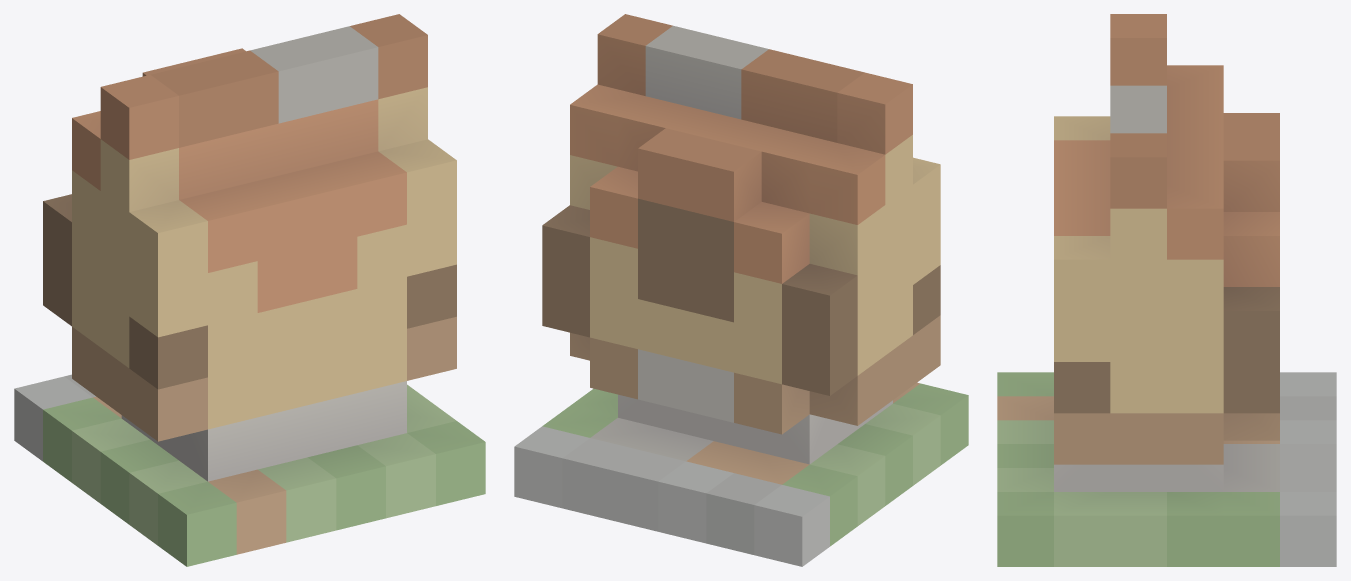
The model's file is house_merchants.v0.lite.glb.
3 renders of one model, left to right at view 1: azimuth 30°, elevation 25°; view 2: azimuth 150°, elevation 25°; view 3: azimuth 270°, elevation 25°, orthographic. The views are drawn at different scales.
Visible parts, largest first — view 1: house_merchants; view 2: house_merchants; view 3: house_merchants.
Boxes of the visible parts, <box> form: house_merchants: <box>14,14,485,566</box>; house_merchants: <box>514,14,968,566</box>; house_merchants: <box>997,14,1336,566</box>.
Size of the model in its own units: 3 by 4 by 3.
